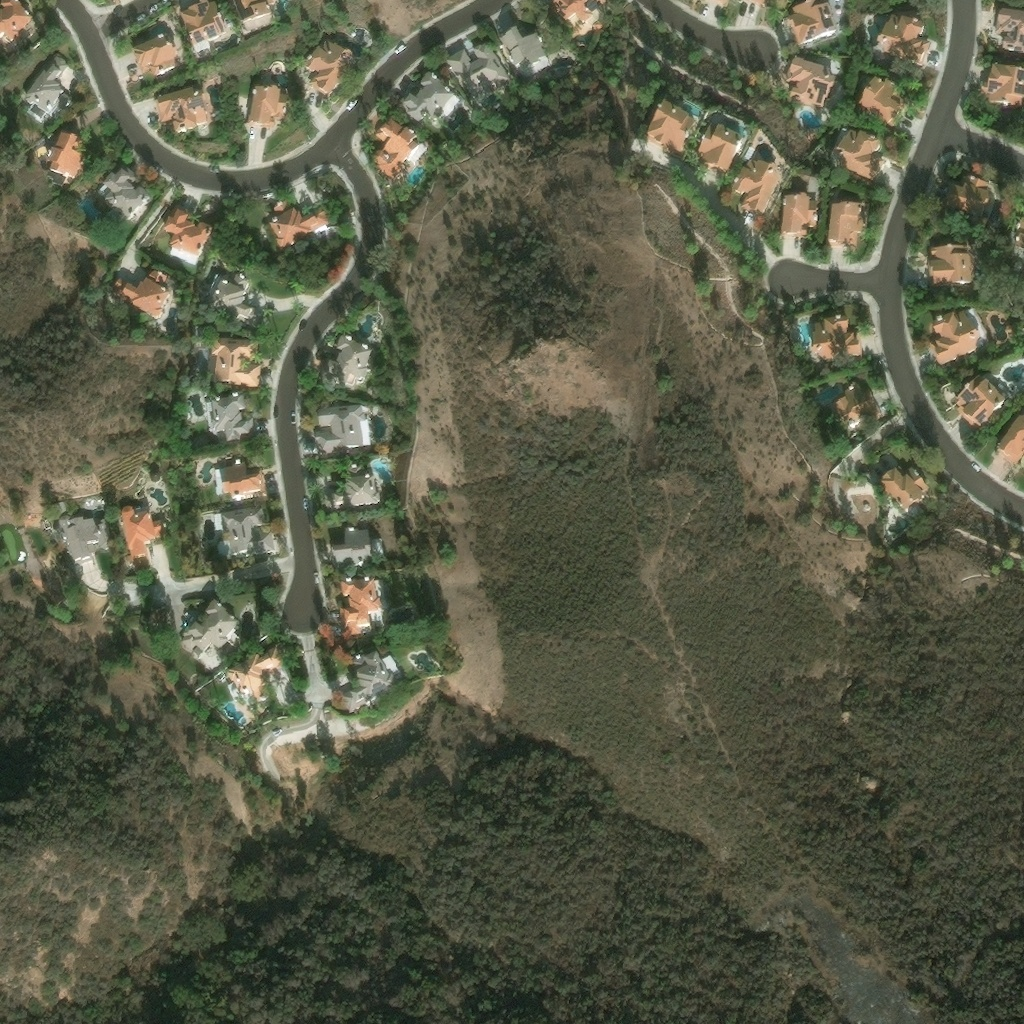0 no-damage: (396, 72, 468, 142), (444, 42, 515, 108), (22, 55, 82, 129), (338, 651, 403, 716), (221, 646, 288, 704), (927, 308, 990, 369), (109, 269, 176, 326), (309, 403, 373, 461), (317, 333, 379, 392), (299, 38, 357, 101), (176, 601, 240, 657), (825, 127, 884, 187), (495, 27, 554, 84), (220, 510, 281, 565), (783, 55, 840, 113), (199, 274, 258, 329), (872, 15, 932, 69), (731, 158, 785, 217), (854, 76, 913, 130), (370, 120, 419, 185), (151, 88, 217, 136), (267, 201, 331, 250), (205, 339, 265, 391), (115, 507, 167, 567), (643, 98, 698, 154), (97, 167, 152, 223), (161, 210, 214, 268), (545, 0, 614, 44), (50, 514, 104, 570), (954, 374, 1007, 431), (324, 465, 385, 514), (694, 122, 746, 178), (944, 175, 1001, 223), (177, 0, 228, 53), (832, 383, 882, 434), (879, 467, 931, 516), (806, 319, 862, 364), (44, 130, 88, 187), (209, 395, 257, 447), (787, 0, 838, 48), (339, 581, 380, 640), (132, 34, 179, 85), (331, 528, 385, 572), (0, 0, 39, 56), (227, 0, 279, 41), (977, 65, 1023, 111), (927, 246, 976, 288), (245, 87, 288, 132), (219, 464, 266, 504), (827, 201, 862, 251), (780, 193, 817, 240), (992, 415, 1023, 467), (993, 10, 1023, 54), (1012, 219, 1023, 251), (149, 474, 161, 486)
4 un-classified: (744, 0, 774, 9), (703, 0, 728, 7)
